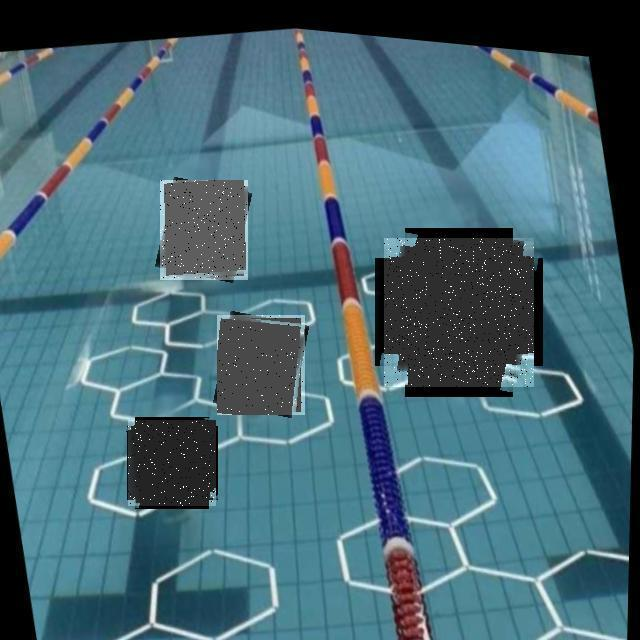swimming: (384, 238, 534, 387), (160, 180, 248, 280), (217, 315, 305, 415), (128, 420, 216, 506)
